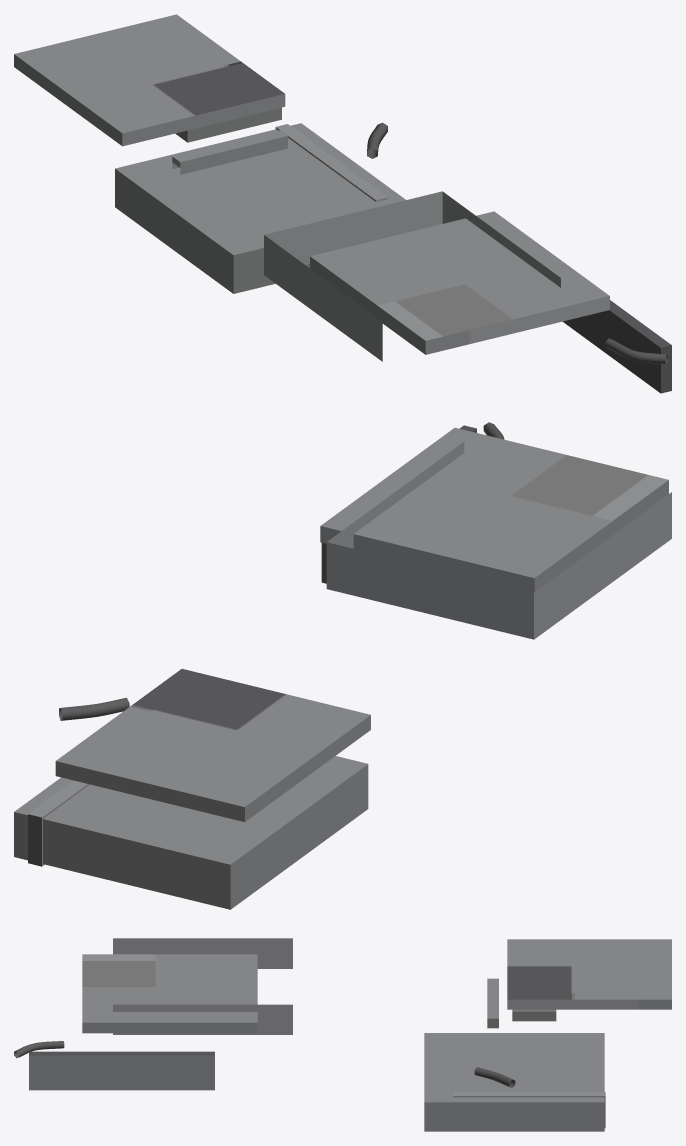
The picture shows the model from 3 angles, top to bottom: view 1: azimuth 30°, elevation 25°; view 2: azimuth 150°, elevation 25°; view 3: azimuth 270°, elevation 25°; orthographic projection. The views are drawn at different scales.
Size of the model in its own units: 0.468 by 0.2312 by 1.32.
